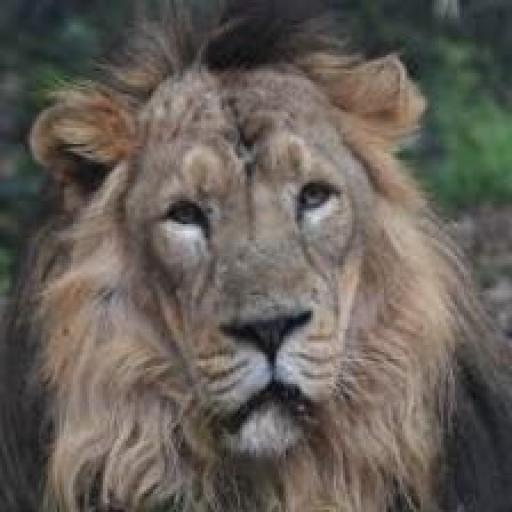lion: (21, 7, 504, 504)
